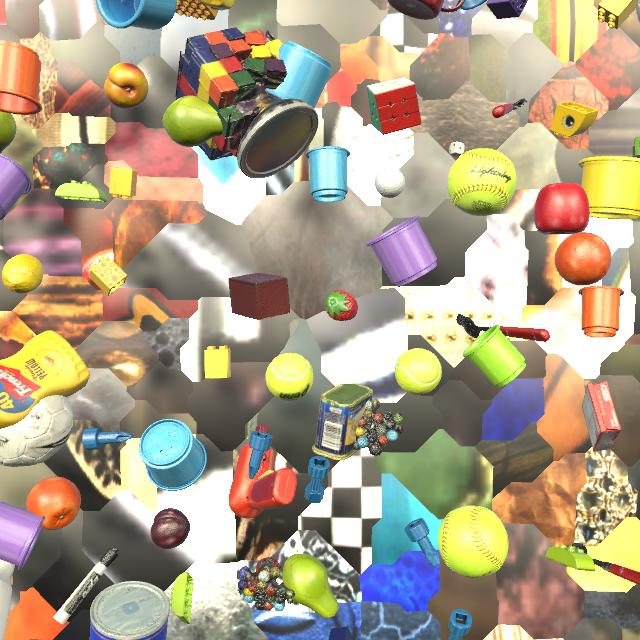ycb_002_master_chef_can: (90, 581, 170, 640)
ycb_006_mustard_bottle: (0, 330, 90, 429), (197, 0, 235, 10)
ycb_009_gelatin_box: (582, 381, 621, 452)
ycb_010_potted_meat_can: (312, 383, 373, 460)
ycb_012_strawberry: (324, 290, 358, 321)
ycb_013_apple: (534, 182, 590, 235), (29, 639, 40, 640)
ycb_014_lemon: (2, 254, 43, 294)
ycb_015_peach: (104, 63, 148, 109)
ycb_016_pear: (282, 554, 339, 618), (163, 96, 223, 147), (0, 111, 16, 153)
ycb_017_orange: (555, 232, 611, 285), (26, 477, 81, 530)
ycb_018_plum: (150, 508, 190, 549)
